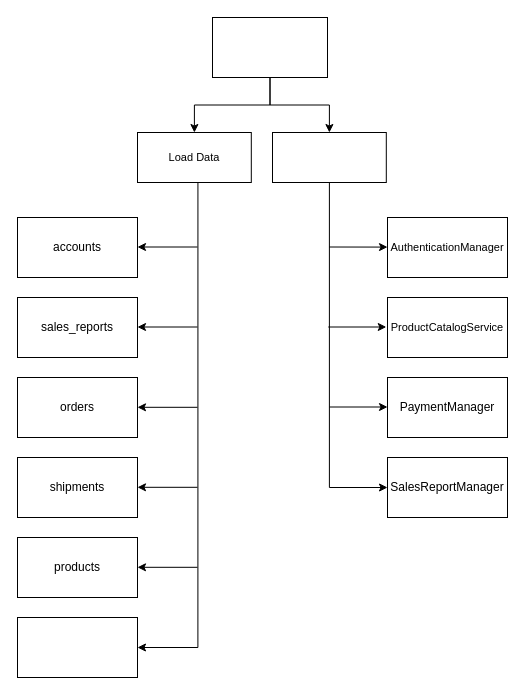
The diagram is 525 pixels wide and 695 high, and some of its shapes have lost their labels. Each missing label, with the box of its shape:
Start services: (272, 132, 386, 182)
Startup: (212, 16, 328, 78)
vendors: (16, 616, 138, 678)
